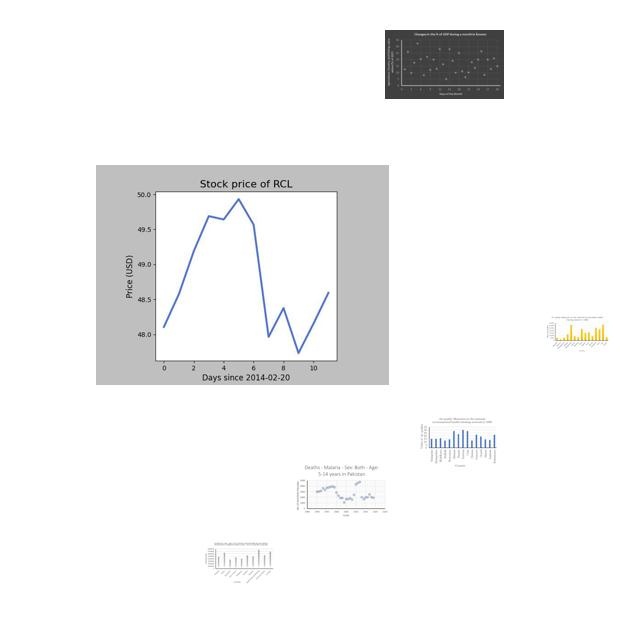Graph: (96, 165, 389, 385), (385, 30, 504, 99), (294, 463, 389, 518), (419, 416, 499, 469), (204, 542, 274, 584), (545, 315, 610, 353)
